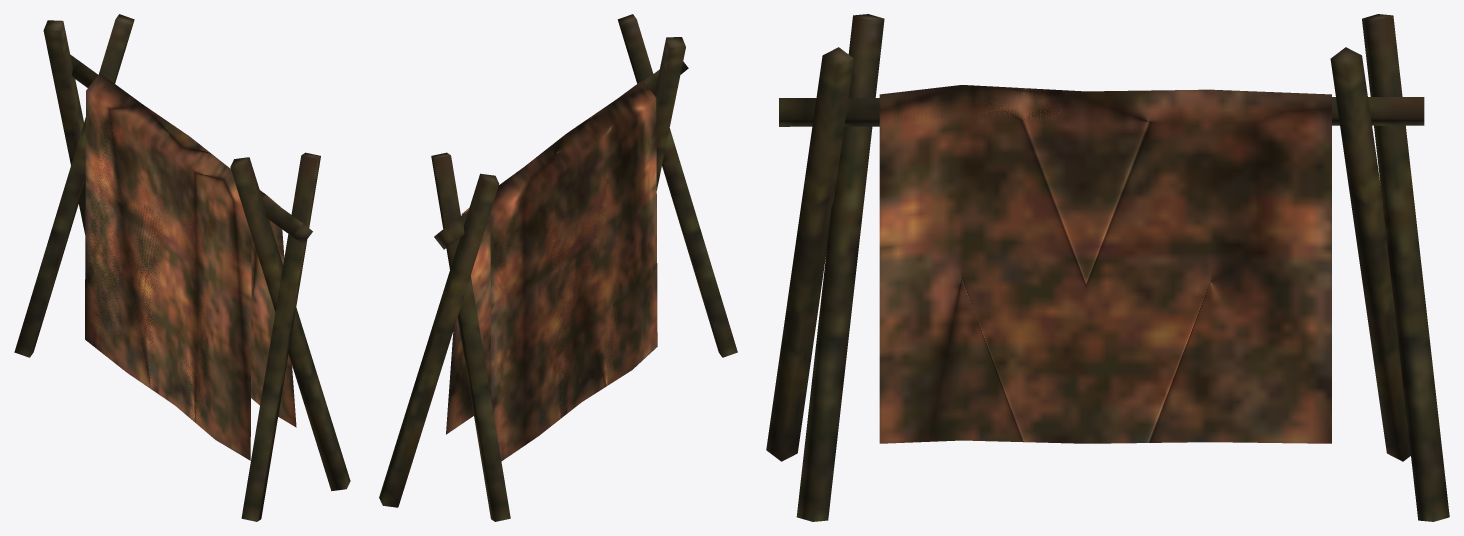
Rendered from b_general_obj_02_01.fbx.
3 renders of one model, left to right at view 1: azimuth 30°, elevation 25°; view 2: azimuth 150°, elevation 25°; view 3: azimuth 270°, elevation 25°, orthographic. The views are drawn at different scales.
Parts seen in each view (by area): view 1: B_general_obj_02; view 2: B_general_obj_02; view 3: B_general_obj_02.
Boxes of the visible parts, bbox=[...] form: B_general_obj_02: bbox=[14, 14, 350, 521]; B_general_obj_02: bbox=[379, 14, 737, 521]; B_general_obj_02: bbox=[766, 14, 1449, 521].
Size of the model in its own units: 1 by 2.66 by 3.61.
